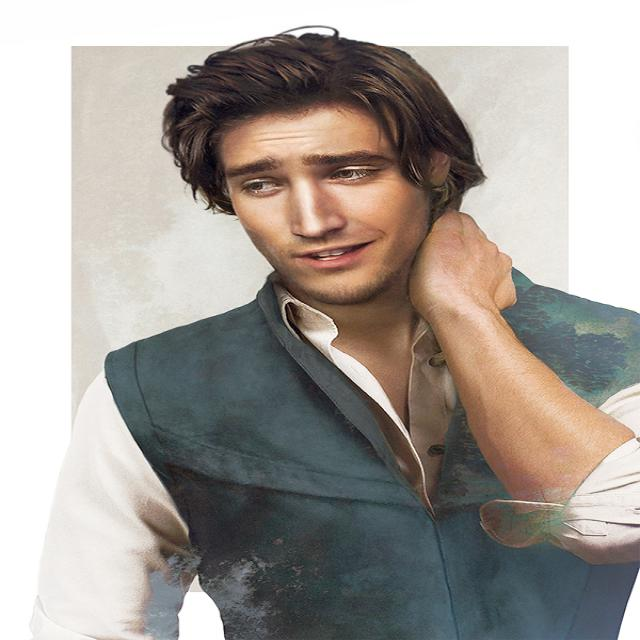human: (28, 18, 640, 640)
